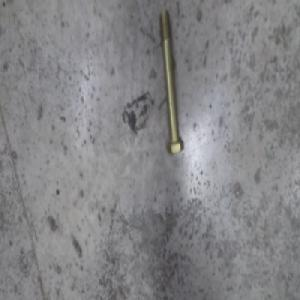Bolt: (159, 22, 185, 155)
